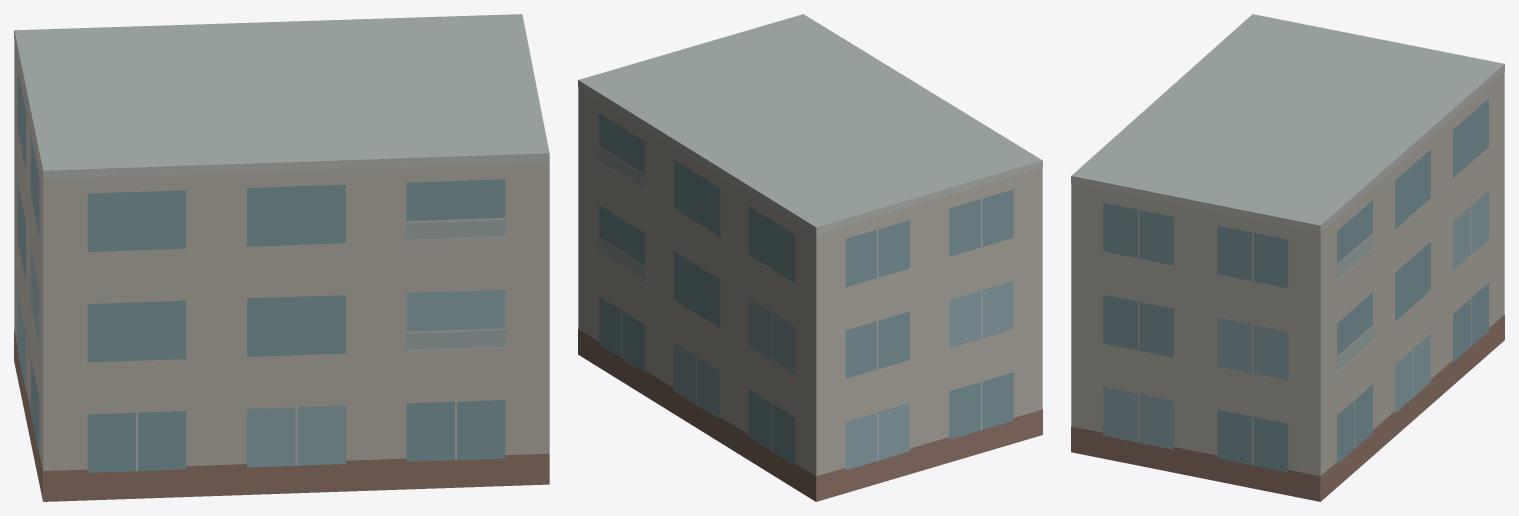
The model's file is survey-upis-32692875.glb.
The picture shows the model from 3 angles, left to right: view 1: azimuth 30°, elevation 25°; view 2: azimuth 150°, elevation 25°; view 3: azimuth 270°, elevation 25°; orthographic projection. The views are drawn at different scales.
Parts seen in each view (by area): view 1: survey-upis-32692875.tmp; view 2: survey-upis-32692875.tmp; view 3: survey-upis-32692875.tmp.
Boxes of the visible parts, x1=… form: survey-upis-32692875.tmp: x1=14, y1=14, x2=549, y2=501; survey-upis-32692875.tmp: x1=578, y1=14, x2=1042, y2=501; survey-upis-32692875.tmp: x1=1071, y1=14, x2=1504, y2=501.
Size of the model in its own units: 15.04 by 9.15 by 13.03.
